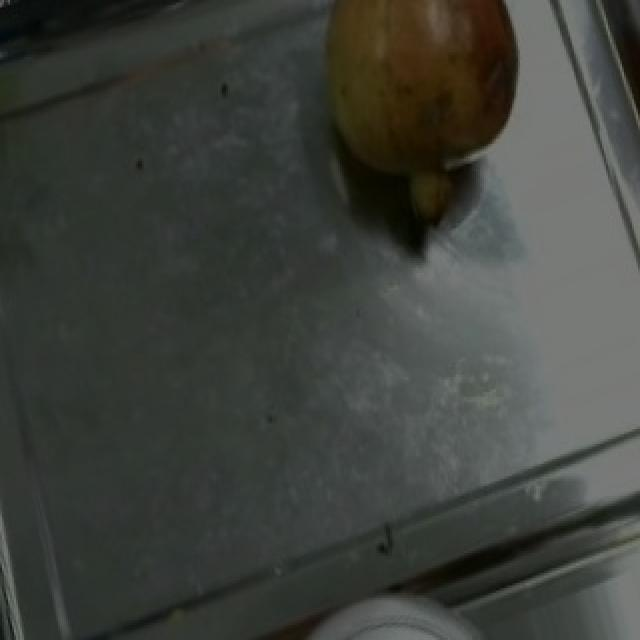fruit: (292, 0, 550, 211)
